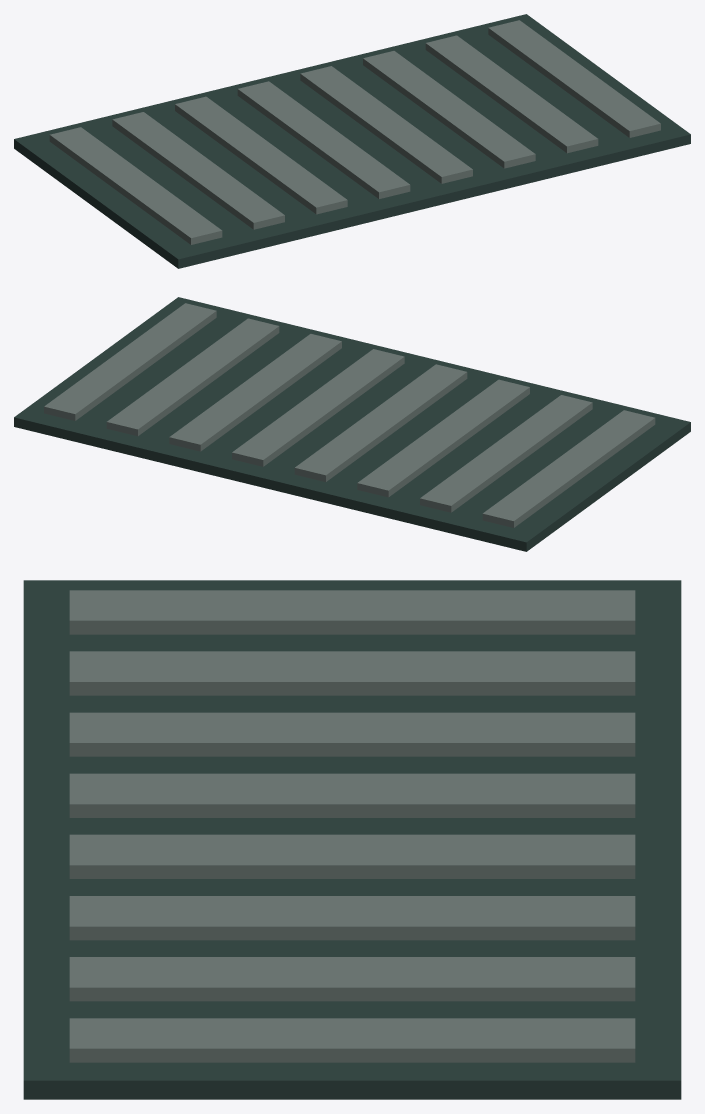
File: DrainGrate.obj
The picture shows the model from 3 angles, top to bottom: view 1: azimuth 30°, elevation 25°; view 2: azimuth 150°, elevation 25°; view 3: azimuth 270°, elevation 25°; orthographic projection. The views are drawn at different scales.
Parts seen in each view (by area): view 1: DrainGrate; view 2: DrainGrate; view 3: DrainGrate.
Part boxes in pixels (x1=…): DrainGrate: x1=14, y1=14, x2=690, y2=268; DrainGrate: x1=14, y1=297, x2=690, y2=551; DrainGrate: x1=23, y1=580, x2=681, y2=1099.
Bounding box in the file's own units: 0.9 × 0.0275 × 0.5.
Materials: 1 (1 with a texture image).
